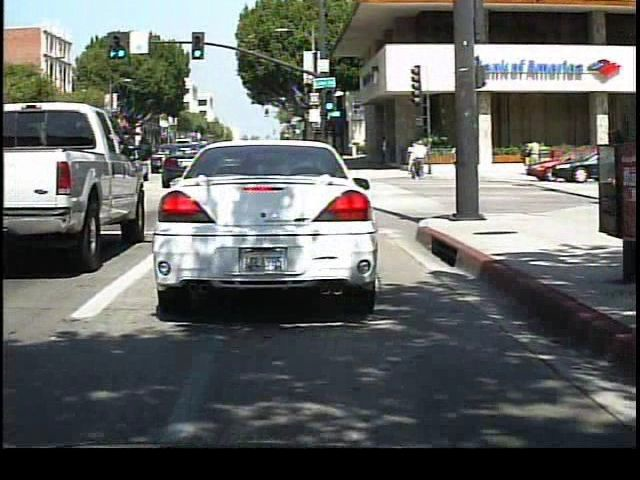person: (522, 135, 544, 176), (410, 136, 429, 180), (447, 136, 466, 179)
